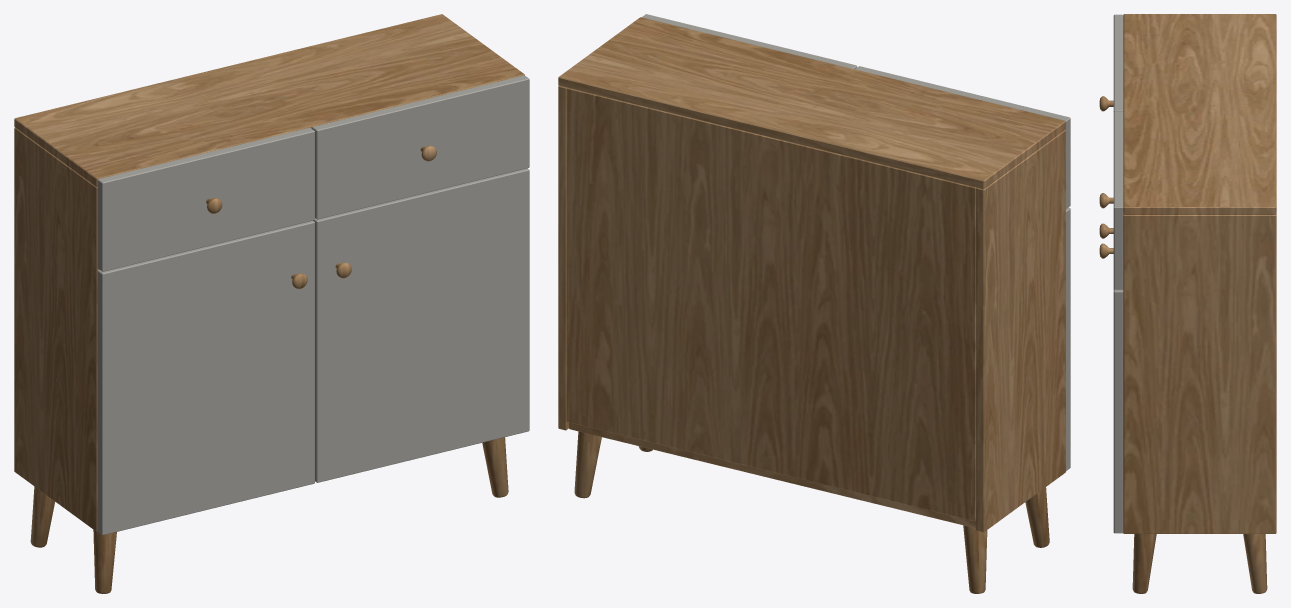
Rendered from mueble_recibidor_90.glb.
The picture shows the model from 3 angles, left to right: view 1: azimuth 30°, elevation 25°; view 2: azimuth 150°, elevation 25°; view 3: azimuth 270°, elevation 25°; orthographic projection. The views are drawn at different scales.
Parts seen in each view (by area): view 1: mueble_recibidor_90; view 2: mueble_recibidor_90; view 3: mueble_recibidor_90.
Part boxes in pixels (x1,y1,x2,y2): mueble_recibidor_90: [14, 14, 529, 593]; mueble_recibidor_90: [558, 14, 1070, 593]; mueble_recibidor_90: [1099, 14, 1276, 593].
Bounding box in the file's own units: 0.9 × 0.8511 × 0.348.
Materials: 2 (1 with a texture image).
